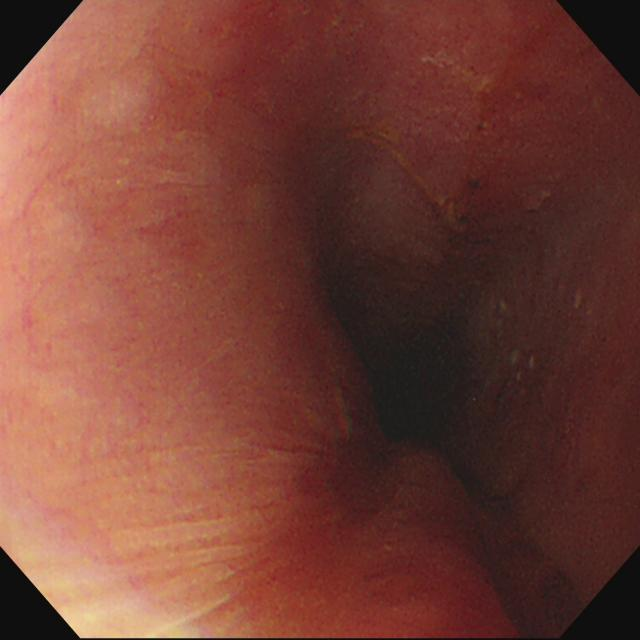E: (373, 344, 445, 438)
J: (423, 52, 495, 96), (513, 351, 535, 382)
